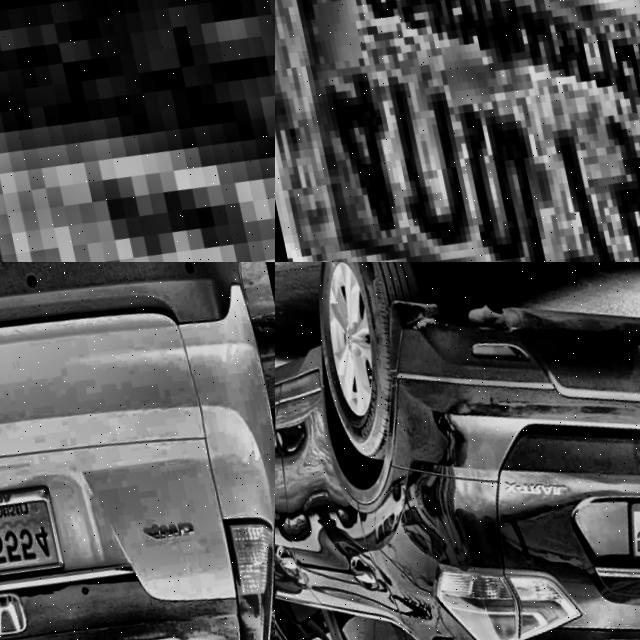license-plate: (275, 0, 640, 262), (0, 0, 275, 262), (0, 473, 66, 592), (616, 475, 640, 575)
